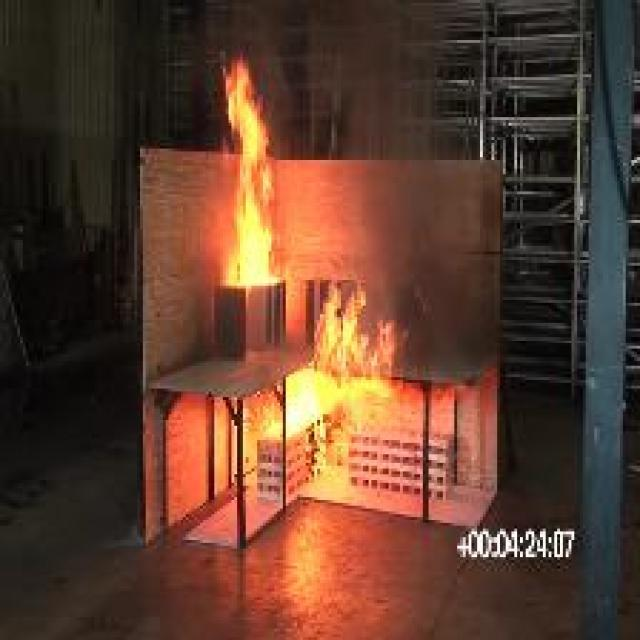Fire: (248, 286, 396, 434), (224, 53, 282, 284)
